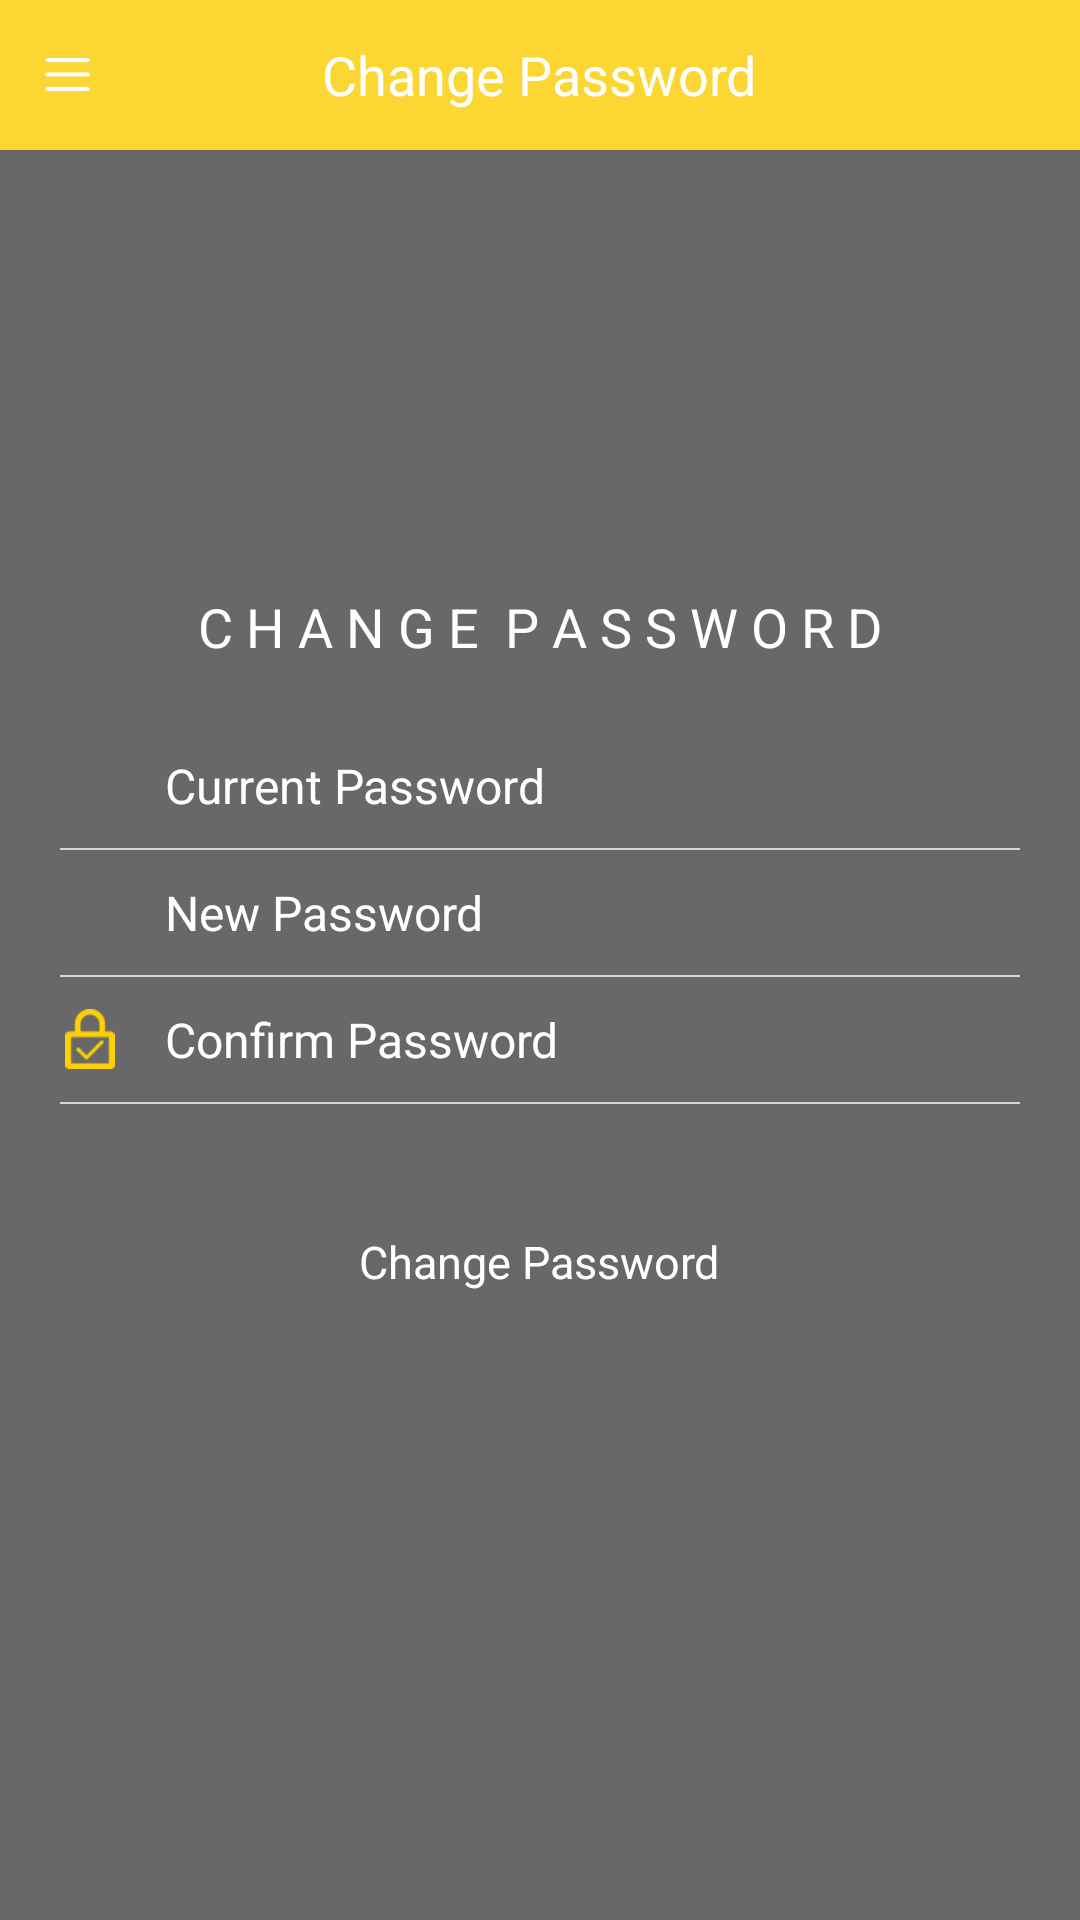

Icons on this 1080×1920 Android screen, each with its box as (x1, y1, x2, y2):
menu: (45, 58, 90, 91)
